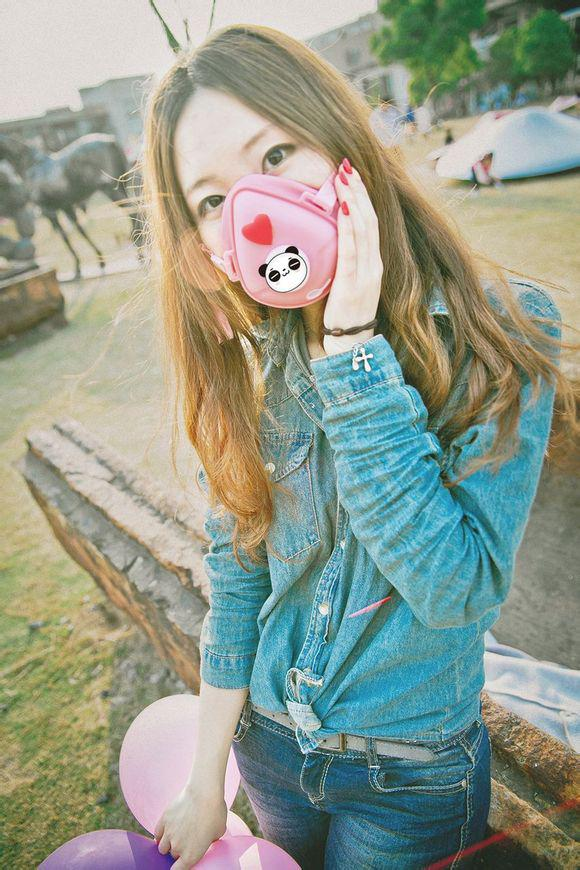OK: (181, 129, 362, 310)
